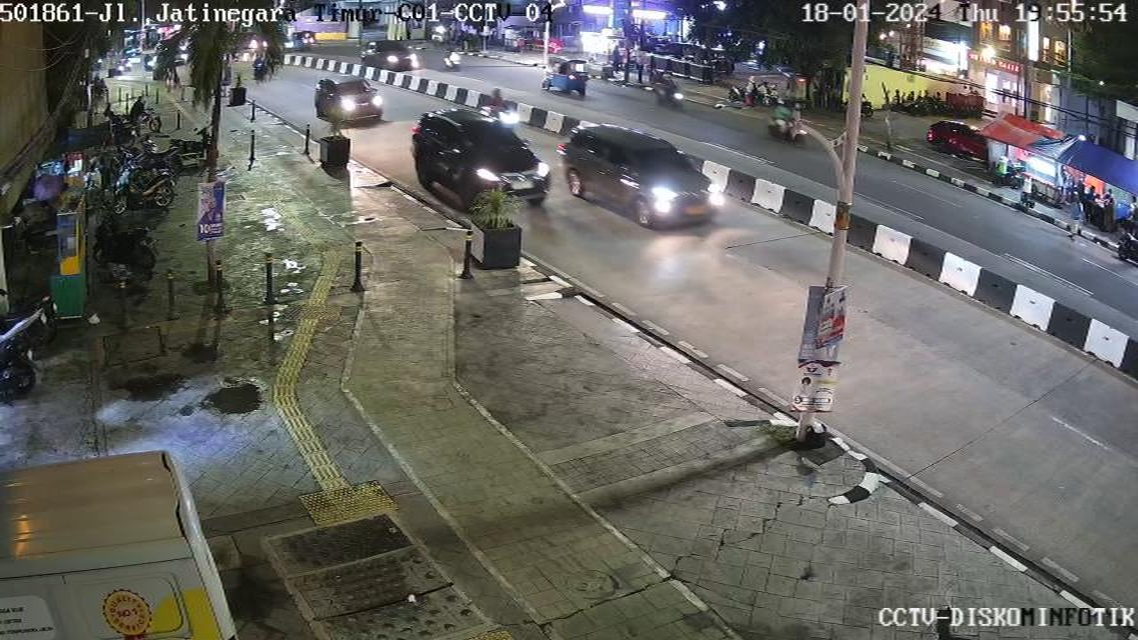Gerobak: (34, 195, 107, 337)
